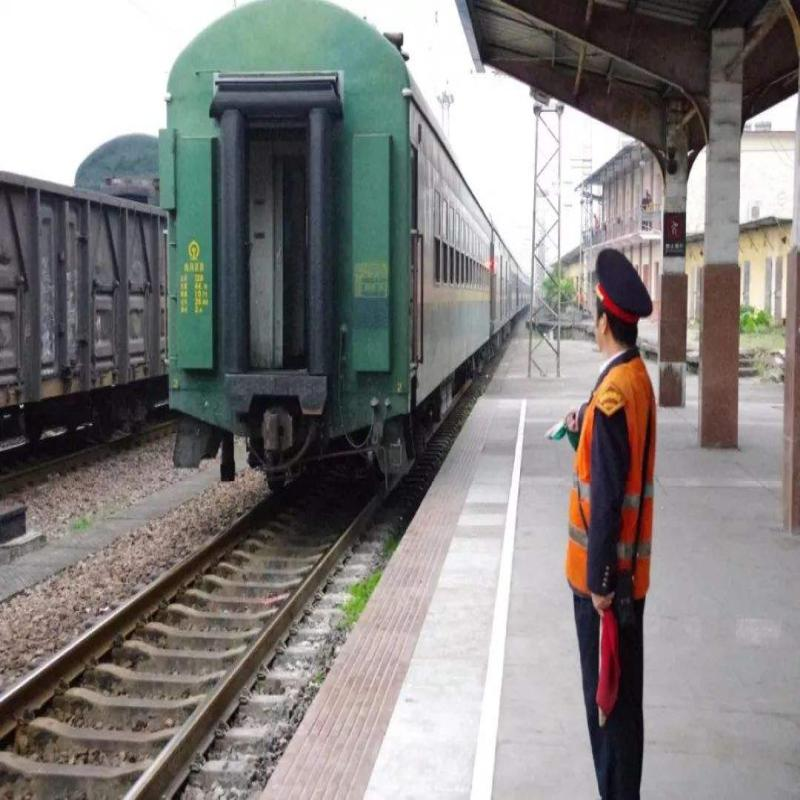train: (166, 12, 514, 431)
